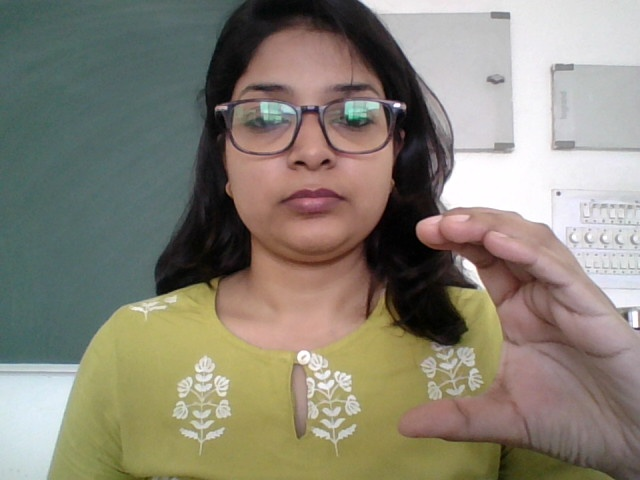C: (402, 205, 629, 465)
